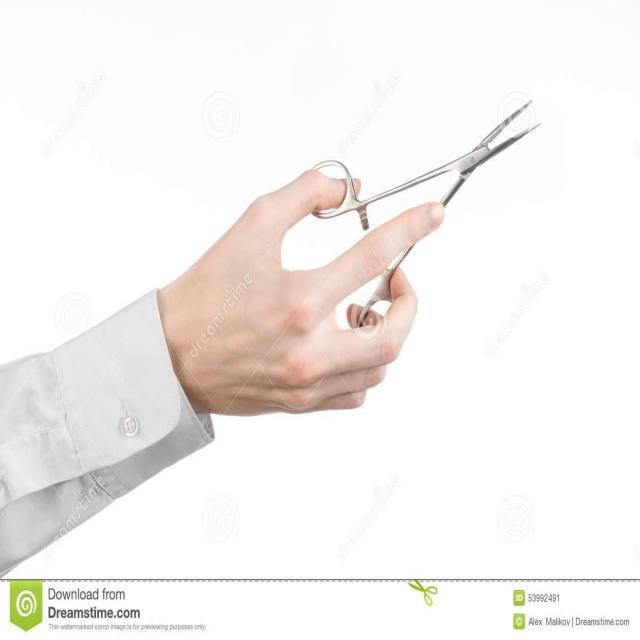scissors: (304, 98, 541, 333)
